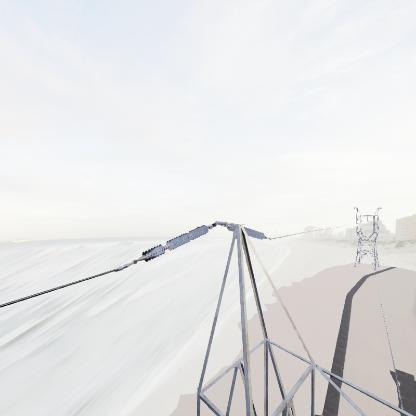insulator: (141, 221, 212, 263)
tower: (348, 200, 384, 274)
